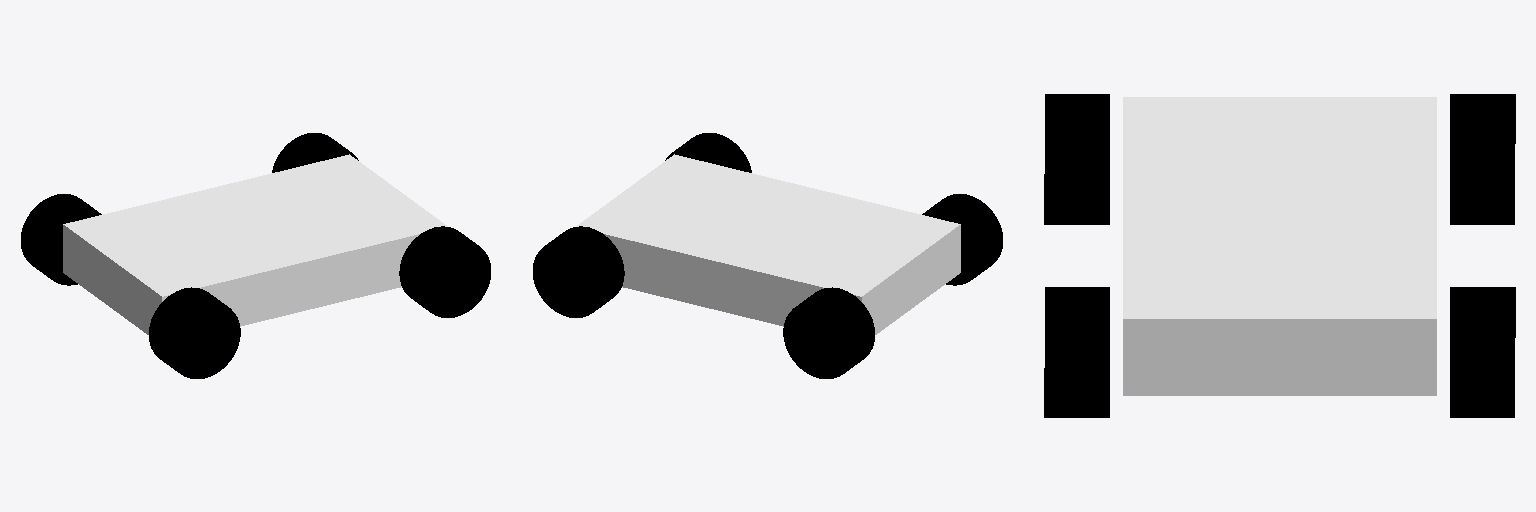
URDF robot description (wheeltec_robot):
<?xml version="1.0" ?>
<robot name="wheeltec_robot">

    <link name="base_link">
        <visual>
            <origin xyz=" 0 0 0.058" rpy="0 0 0" />
            <geometry>
                <box size="0.40 0.24 0.065"/>
            </geometry>
            <material name="white">
                <color rgba="1 1 1 1"/>
            </material>
        </visual>
    </link>   

    <joint name="left_wheel_joint" type="continuous">
        <origin xyz="-0.175 0.155 0.05" rpy="1.57 0 0"/>
        <parent link="base_link"/>
        <child link="left_wheel_link"/>
        <axis xyz="0 1 0"/>
    </joint>

    <link name="left_wheel_link">
        <visual>
            <origin xyz="0 0 0" rpy="0 0 0" />
            <geometry>
                <cylinder radius="0.05" length = "0.05"/>
            </geometry>
            <material name="black">
                <color rgba="0 0 0 1"/>
            </material>
        </visual>
    </link>

    <joint name="right_wheel_joint" type="continuous">
        <origin xyz="-0.175 -0.155 0.05" rpy="1.57 0 0"/>
        <parent link="base_link"/>
        <child link="right_wheel_link"/>
        <axis xyz="0 1 0"/>
    </joint>

    <link name="right_wheel_link">
        <visual>
            <origin xyz="0 0 0" rpy="0 0 0" />
            <geometry>
                <cylinder radius="0.05" length = "0.05"/>
            </geometry>
            <material name="black">
                <color rgba="0 0 0 1"/>
            </material>
        </visual>
    </link>

      <joint name="left_front_joint" type="continuous">
        <origin xyz="0.175 0.155 0.05" rpy="1.57 0 0"/>
        <parent link="base_link"/>
        <child link="left_front_link"/>
        <axis xyz="0 1 0"/>
    </joint>

    <link name="left_front_link">
        <visual>
            <origin xyz="0 0 0" rpy="0 0 0" />
            <geometry>
                <cylinder radius="0.05" length = "0.05"/>
            </geometry>
            <material name="black">
                <color rgba="0 0 0 1"/>
            </material>
        </visual>
    </link>

    <joint name="right_front_joint" type="continuous">
        <origin xyz="0.175 -0.155 0.05" rpy="1.57 0 0"/>
        <parent link="base_link"/>
        <child link="right_front_link"/>
        <axis xyz="0 1 0"/>
    </joint>

    <link name="right_front_link">
        <visual>
            <origin xyz="0 0 0" rpy="0 0 0" />
            <geometry>
                <cylinder radius="0.05" length = "0.05"/>
            </geometry>
            <material name="black">
                <color rgba="0 0 0 1"/>
            </material>
        </visual>
    </link>


</robot>

--- Render facts (derived) ---
Views: 3 orthographic renders of the robot side by side, from view 1: azimuth 30°, elevation 25°; view 2: azimuth 150°, elevation 25°; view 3: azimuth 270°, elevation 25°.
Robot: wheeltec_robot — 5 links, 4 joints (4 continuous); root link base_link; default pose: all joints at 0.
Links seen in each view (by area): view 1: base_link, right_wheel_link, right_front_link, left_wheel_link, left_front_link; view 2: base_link, left_wheel_link, left_front_link, right_wheel_link, right_front_link; view 3: base_link, right_wheel_link, left_front_link, left_wheel_link, right_front_link.
Boxes of the visible links, <box> form: base_link: <box>63,154,447,334</box>; right_wheel_link: <box>149,287,240,378</box>; right_front_link: <box>399,226,490,317</box>; left_wheel_link: <box>21,194,101,285</box>; left_front_link: <box>272,133,358,172</box>; base_link: <box>576,154,960,334</box>; left_wheel_link: <box>783,287,874,378</box>; left_front_link: <box>533,226,624,317</box>; right_wheel_link: <box>922,194,1002,285</box>; right_front_link: <box>665,133,751,172</box>; base_link: <box>1123,97,1436,395</box>; right_wheel_link: <box>1044,94,1109,224</box>; left_front_link: <box>1450,287,1515,417</box>; left_wheel_link: <box>1450,94,1515,224</box>; right_front_link: <box>1044,287,1109,417</box>.
Bounding box of the posed robot: 0.45 × 0.3601 × 0.1 m (x, y, z).
Geometry: primitives only (box / cylinder / sphere), no mesh files.